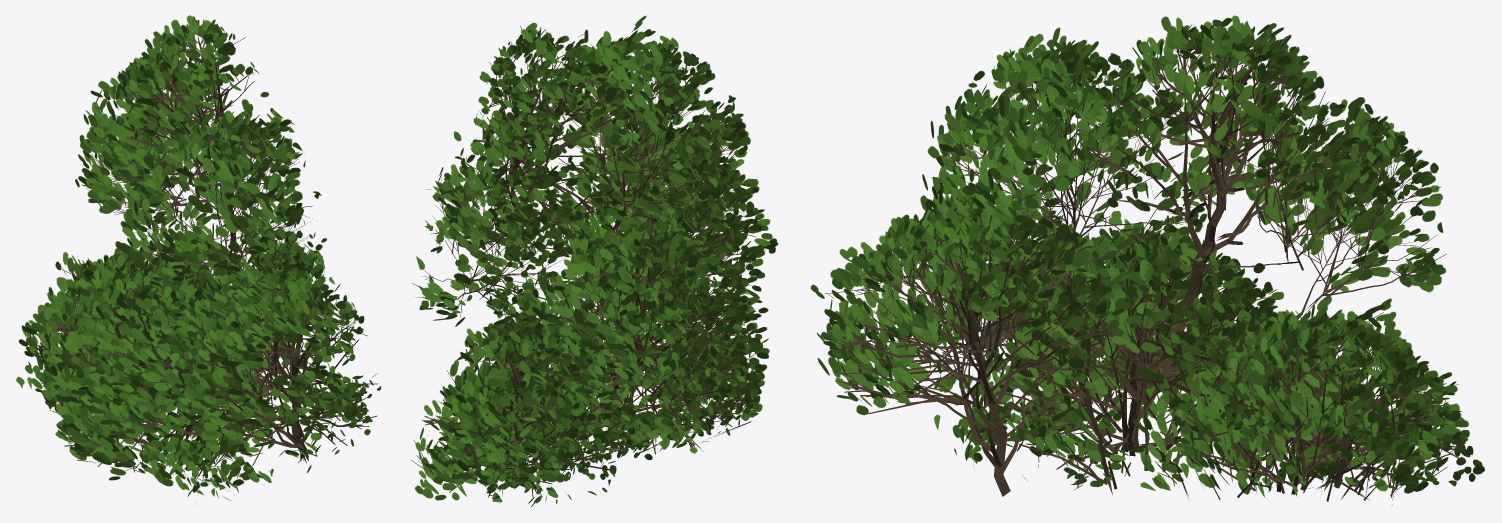
The picture shows the model from 3 angles, left to right: view 1: azimuth 30°, elevation 25°; view 2: azimuth 150°, elevation 25°; view 3: azimuth 270°, elevation 25°; orthographic projection. The views are drawn at different scales.
Parts seen in each view (by area): view 1: oak 01.001_trunk_Mat.001_0.410; view 2: oak 01.001_trunk_Mat.001_0.410; view 3: oak 01.001_trunk_Mat.001_0.410.
Part boxes in pixels (left/top/right/bottom): oak 01.001_trunk_Mat.001_0.410: left=16, top=15, right=381, bottom=501; oak 01.001_trunk_Mat.001_0.410: left=411, top=15, right=778, bottom=506; oak 01.001_trunk_Mat.001_0.410: left=810, top=15, right=1484, bottom=505.
Size of the model in its own units: 2.82 by 4.78 by 5.97.
2 materials, 1 textured.
